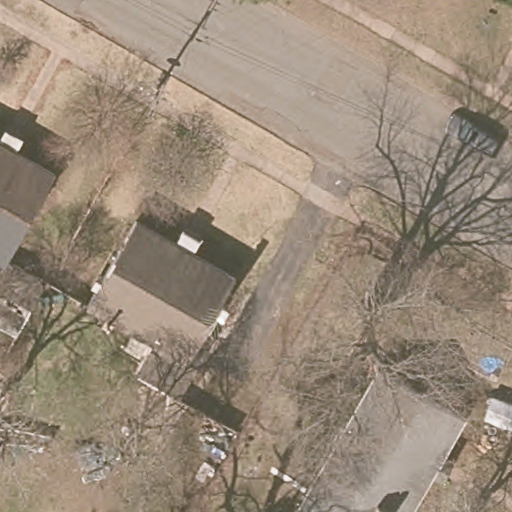DT: (136, 71, 174, 114)
